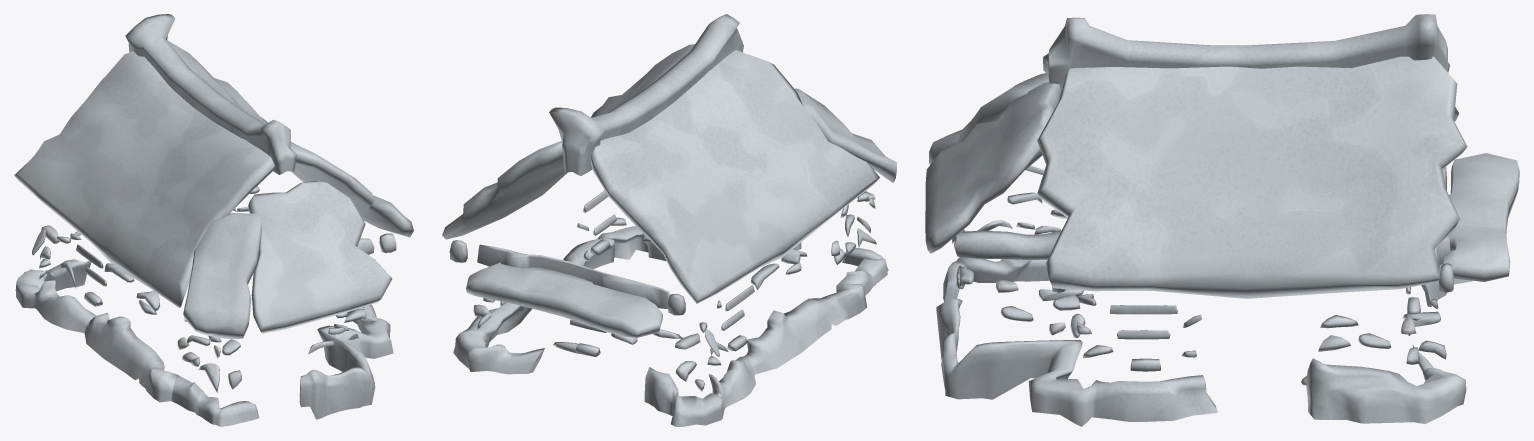
The model's file is House_Stone_Snow.fbx.
3 views of the same model, side by side, from view 1: azimuth 30°, elevation 25°; view 2: azimuth 150°, elevation 25°; view 3: azimuth 270°, elevation 25° (orthographic). The views are drawn at different scales.
Parts seen in each view (by area): view 1: House_Stone_Snow_LOD0; view 2: House_Stone_Snow_LOD0; view 3: House_Stone_Snow_LOD0.
Part boxes in pixels (x1,y1,x2,y2): House_Stone_Snow_LOD0: (14, 14, 413, 426); House_Stone_Snow_LOD0: (442, 14, 896, 426); House_Stone_Snow_LOD0: (925, 14, 1519, 426).
Size of what is drawn, in the model's own units: 804 by 798 by 1215.
